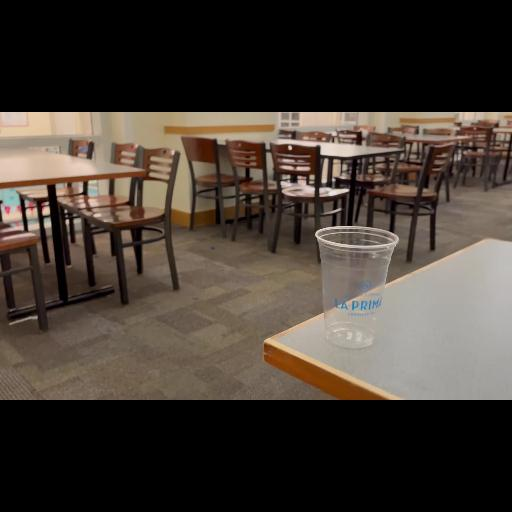lp_plastic_cup: (314, 220, 406, 360)
